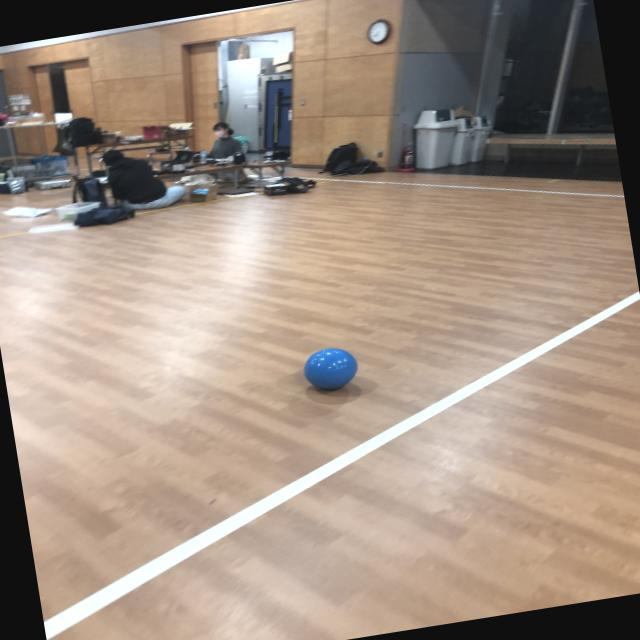blue_ball: (304, 342, 366, 398)
